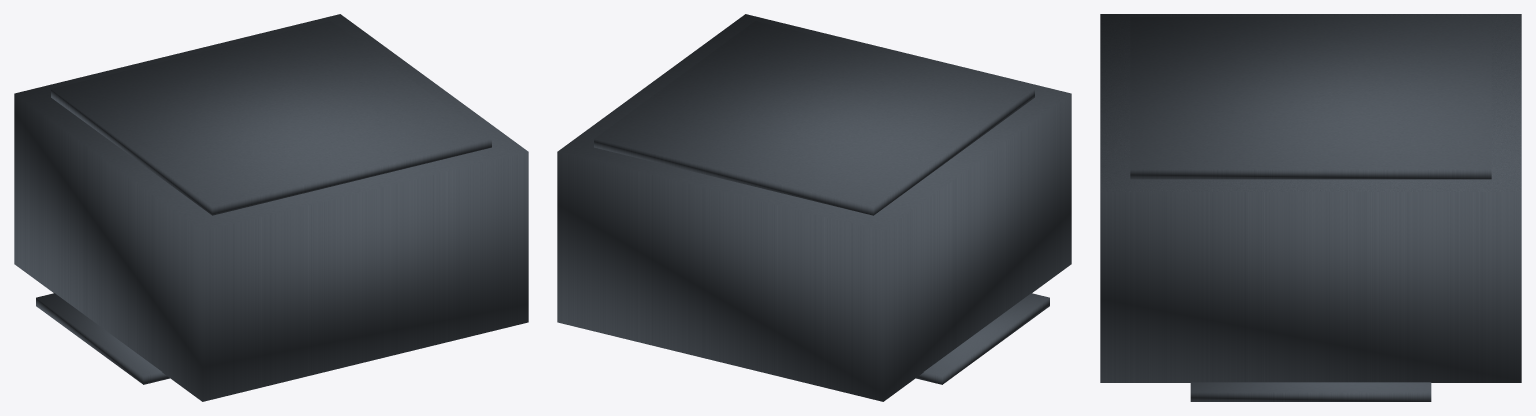
3 renders of one model, left to right at view 1: azimuth 30°, elevation 25°; view 2: azimuth 150°, elevation 25°; view 3: azimuth 270°, elevation 25°, orthographic. The views are drawn at different scales.
Visible parts, largest first — view 1: Ferrite_Core__PSMAT__Inductor_Core, Core_Top__PSMAT__Inductor_Core, InductorTerm__PSMAT__Inductor_Core; view 2: Ferrite_Core__PSMAT__Inductor_Core, Core_Top__PSMAT__Inductor_Core, InductorTerm__PSMAT__Inductor_Core; view 3: Ferrite_Core__PSMAT__Inductor_Core, Core_Top__PSMAT__Inductor_Core, InductorTerm_1__PSMAT__Inductor_Core.
Boxes of the visible parts, left/top/right/bottom form: Ferrite_Core__PSMAT__Inductor_Core: left=14, top=14, right=528, bottom=401; Core_Top__PSMAT__Inductor_Core: left=51, top=21, right=491, bottom=215; InductorTerm__PSMAT__Inductor_Core: left=36, top=293, right=169, bottom=384; Ferrite_Core__PSMAT__Inductor_Core: left=557, top=14, right=1071, bottom=401; Core_Top__PSMAT__Inductor_Core: left=594, top=21, right=1034, bottom=215; InductorTerm__PSMAT__Inductor_Core: left=916, top=293, right=1049, bottom=384; Ferrite_Core__PSMAT__Inductor_Core: left=1100, top=14, right=1521, bottom=382; Core_Top__PSMAT__Inductor_Core: left=1130, top=17, right=1491, bottom=179; InductorTerm_1__PSMAT__Inductor_Core: left=1190, top=382, right=1431, bottom=401.
Bounding box in the file's own units: 0.0156 × 0.00768 × 0.014.
